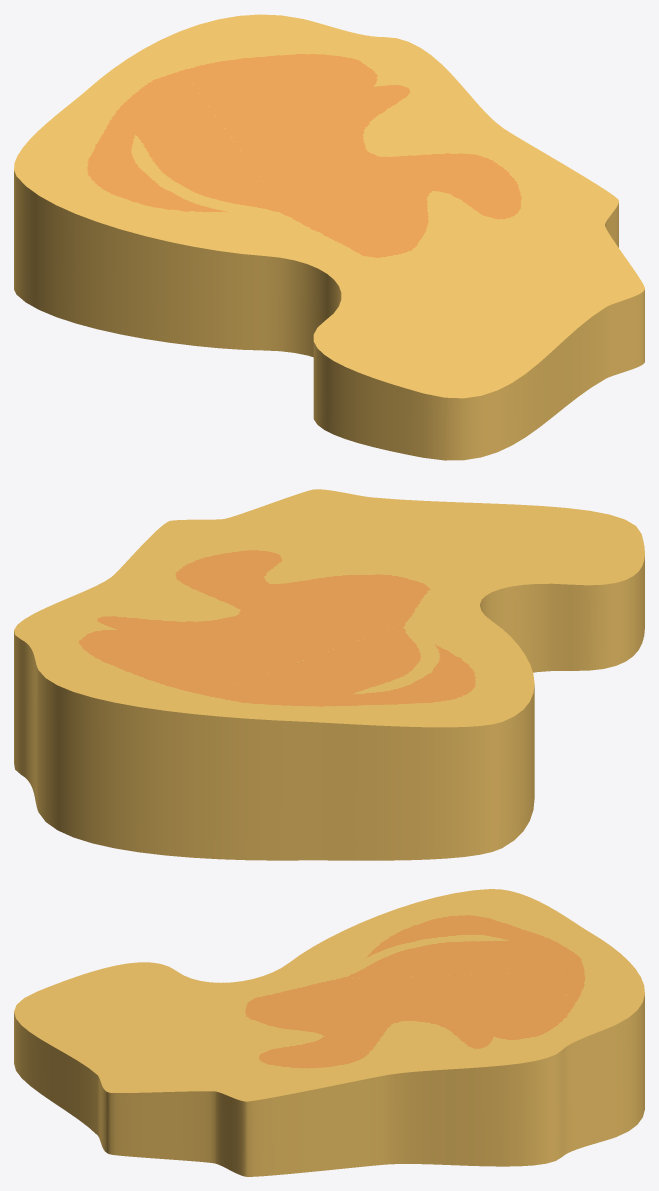
Rendered from cubism-ear.obj.
The picture shows the model from 3 angles, top to bottom: view 1: azimuth 30°, elevation 25°; view 2: azimuth 150°, elevation 25°; view 3: azimuth 270°, elevation 25°; orthographic projection. The views are drawn at different scales.
Visible parts, largest first — view 1: ear_CUBezierCurve.001; view 2: ear_CUBezierCurve.001; view 3: ear_CUBezierCurve.001.
Part boxes in pixels (x1=…): ear_CUBezierCurve.001: x1=14, y1=14, x2=644, y2=460; ear_CUBezierCurve.001: x1=14, y1=489, x2=644, y2=860; ear_CUBezierCurve.001: x1=14, y1=889, x2=644, y2=1176.
Bounding box in the file's own units: 4.1 × 1.17 × 5.79.
Materials: 1 (1 with a texture image).
